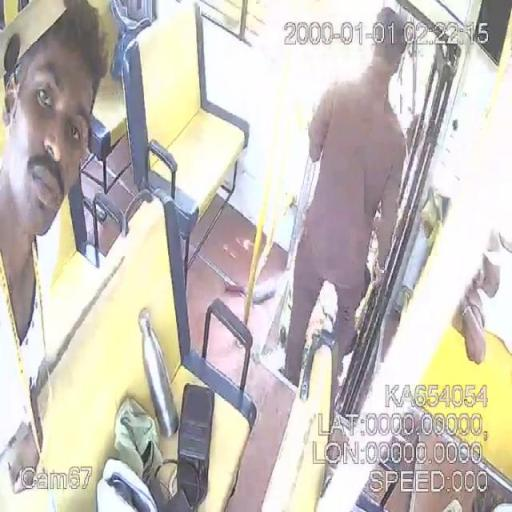persona: (0, 0, 111, 510), (280, 6, 412, 390)
